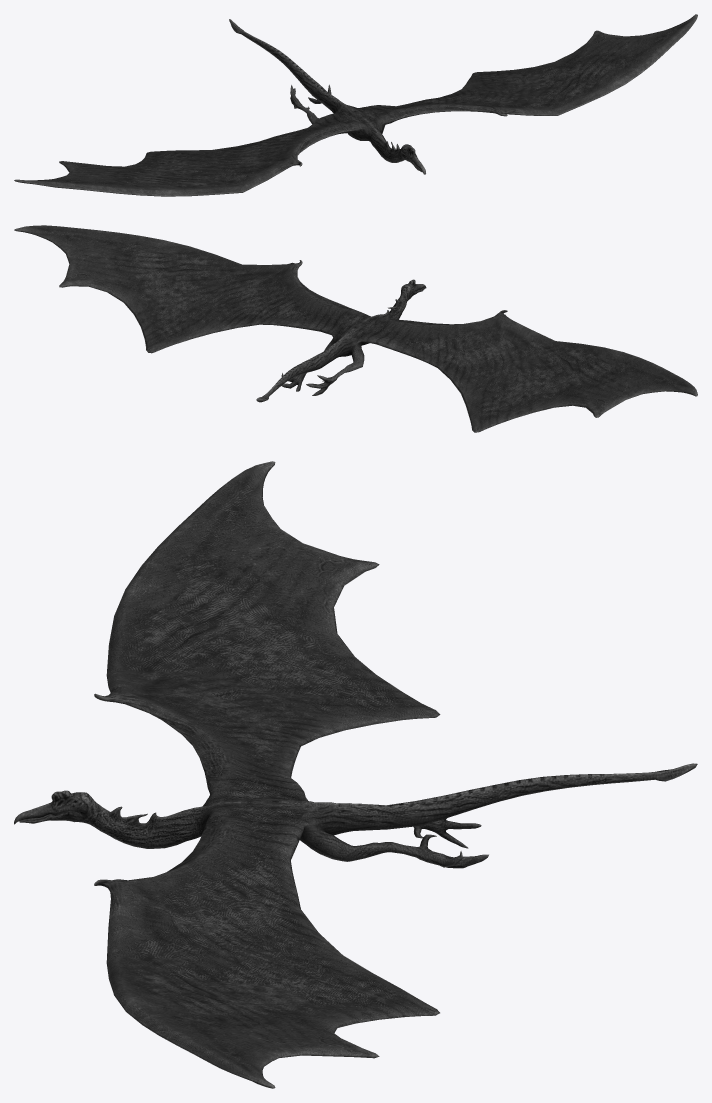
The model's file is Fellbeast_Animate_Flying_19.obj.
The picture shows the model from 3 angles, top to bottom: view 1: azimuth 30°, elevation 25°; view 2: azimuth 150°, elevation 25°; view 3: azimuth 270°, elevation 25°; orthographic projection. The views are drawn at different scales.
Visible parts, largest first — view 1: Fellbeast; view 2: Fellbeast; view 3: Fellbeast.
Part boxes in pixels (box(x1,y1,x2,y2)): Fellbeast: box(14, 14, 697, 196); Fellbeast: box(14, 225, 697, 432); Fellbeast: box(14, 461, 697, 1088).
Size of the model in its own units: 9.48 by 0.6624 by 4.38.
